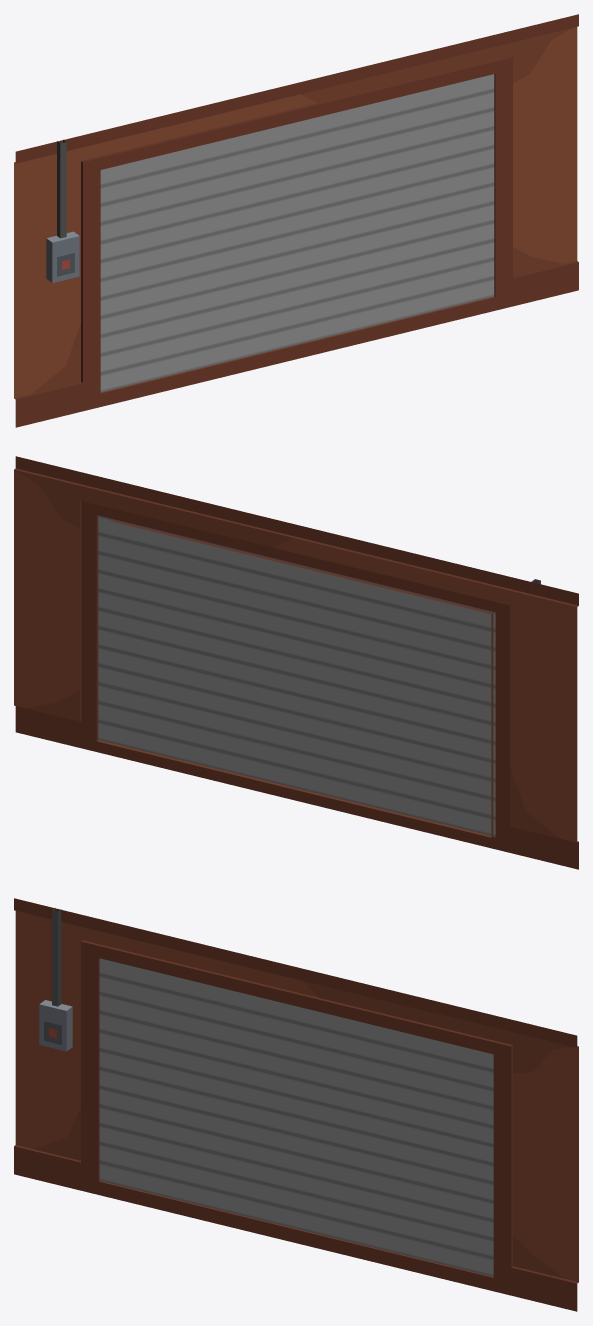
File: AI_Env_Wall_Red_GarageDoor.fbx
3 views of the same model, one above another, from view 1: azimuth 30°, elevation 25°; view 2: azimuth 150°, elevation 25°; view 3: azimuth 330°, elevation 25° (orthographic).
Parts seen in each view (by area): view 1: AI_Env_Wall_Red_GarageDoor; view 2: AI_Env_Wall_Red_GarageDoor; view 3: AI_Env_Wall_Red_GarageDoor.
Part boxes in pixels (bbox=[...]): AI_Env_Wall_Red_GarageDoor: bbox=[14, 14, 578, 427]; AI_Env_Wall_Red_GarageDoor: bbox=[14, 456, 578, 869]; AI_Env_Wall_Red_GarageDoor: bbox=[14, 898, 578, 1311].
Size of the model in its own units: 10 by 4.69 by 0.2623.
